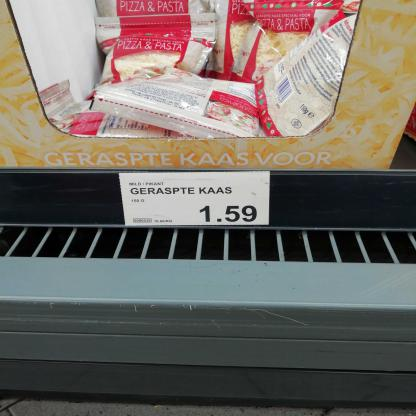prtg: (120, 172, 271, 227)
